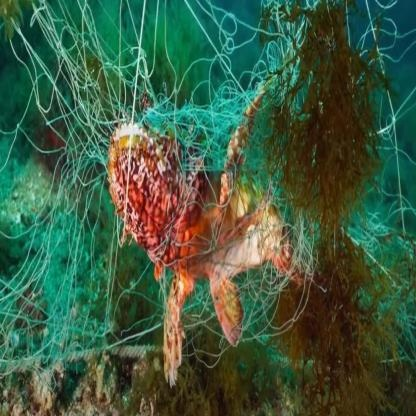net: (37, 46, 379, 312)
